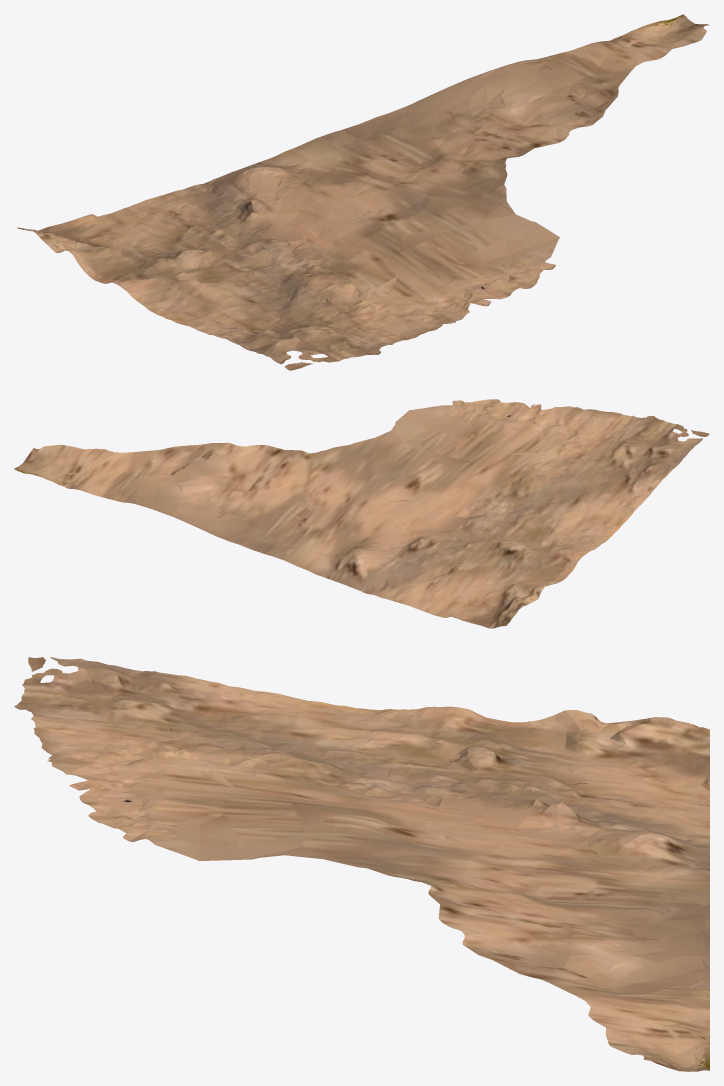
3 renders of one model, top to bottom at view 1: azimuth 30°, elevation 25°; view 2: azimuth 150°, elevation 25°; view 3: azimuth 270°, elevation 25°, orthographic. The views are drawn at different scales.
Bounding box in the file's own units: 2.09 × 0.2044 × 1.53.
1 material, 1 textured.
